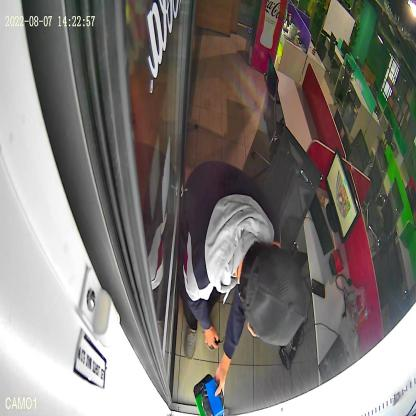blue: (201, 378, 224, 416)
green: (193, 373, 225, 416)
